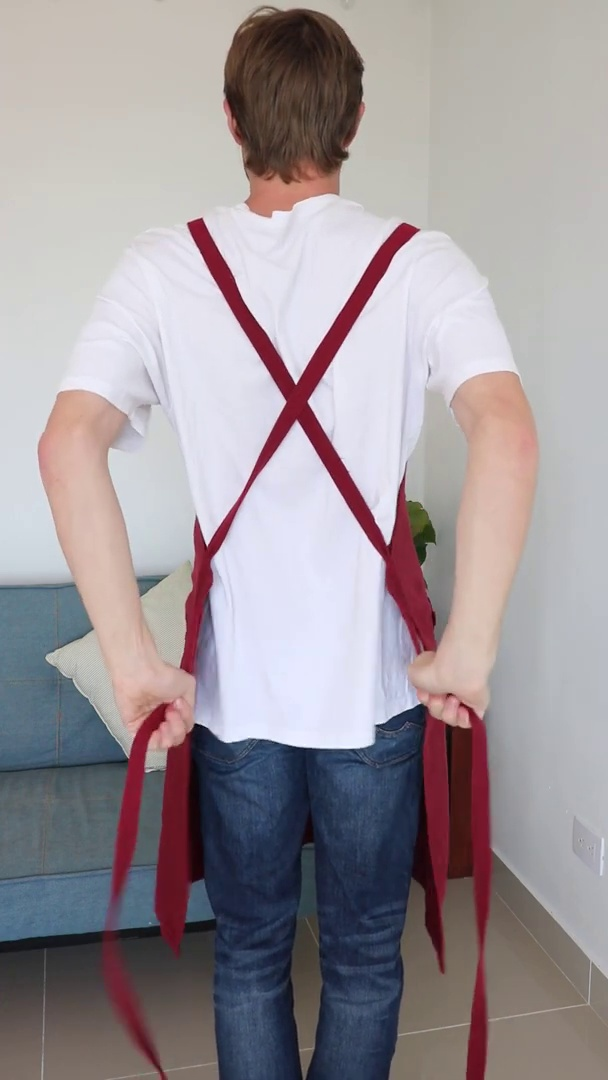Apron: (185, 215, 413, 727)
No_Glove: (109, 662, 198, 751), (398, 652, 494, 729)
No_Hairnet: (213, 5, 371, 175)
